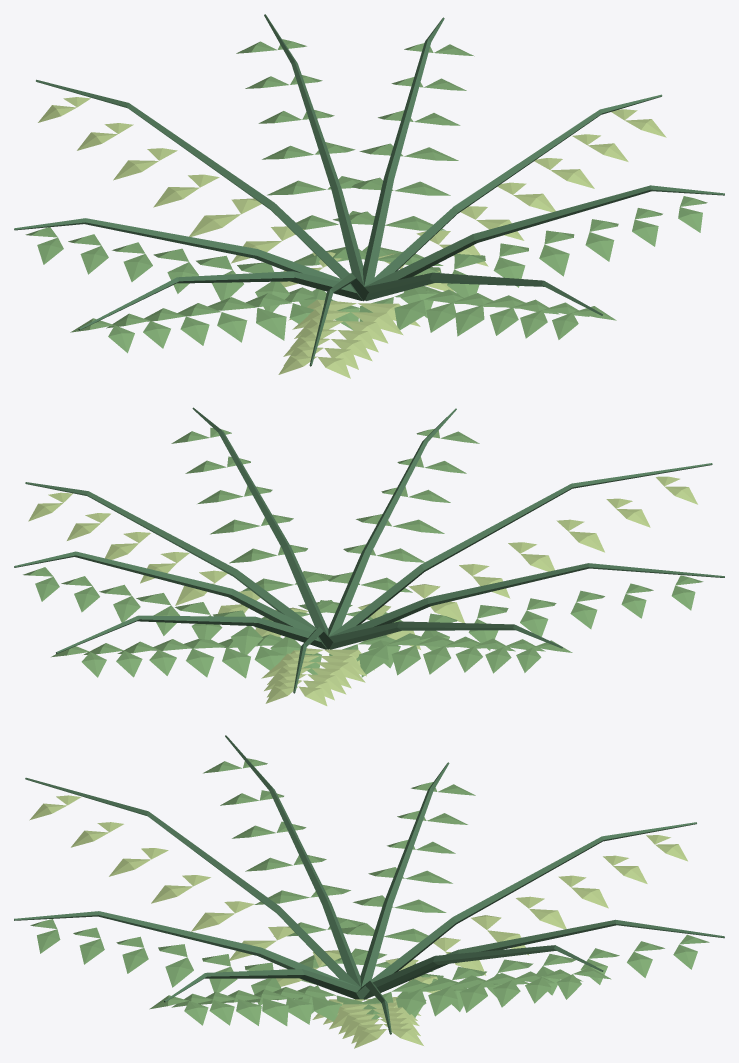
The model's file is fern_v02.glb.
The picture shows the model from 3 angles, top to bottom: view 1: azimuth 30°, elevation 25°; view 2: azimuth 150°, elevation 25°; view 3: azimuth 270°, elevation 25°; orthographic projection. The views are drawn at different scales.
Parts seen in each view (by area): view 1: Wildwuchs_green_nocol, Wildwuchs_deep_nocol, Wildwuchs_tip_nocol; view 2: Wildwuchs_green_nocol, Wildwuchs_deep_nocol, Wildwuchs_tip_nocol; view 3: Wildwuchs_green_nocol, Wildwuchs_deep_nocol, Wildwuchs_tip_nocol.
Part boxes in pixels (x1,y1,x2,y2): Wildwuchs_green_nocol: (25,39,707,353); Wildwuchs_deep_nocol: (14,14,724,366); Wildwuchs_tip_nocol: (38,97,666,378); Wildwuchs_green_nocol: (23,427,703,678); Wildwuchs_deep_nocol: (14,407,724,693); Wildwuchs_tip_nocol: (28,476,697,705); Wildwuchs_green_nocol: (30,758,709,1025); Wildwuchs_deep_nocol: (14,735,724,1034); Wildwuchs_tip_nocol: (29,795,687,1048).
Bounding box in the file's own units: 5.67 × 1.15 × 5.64.
